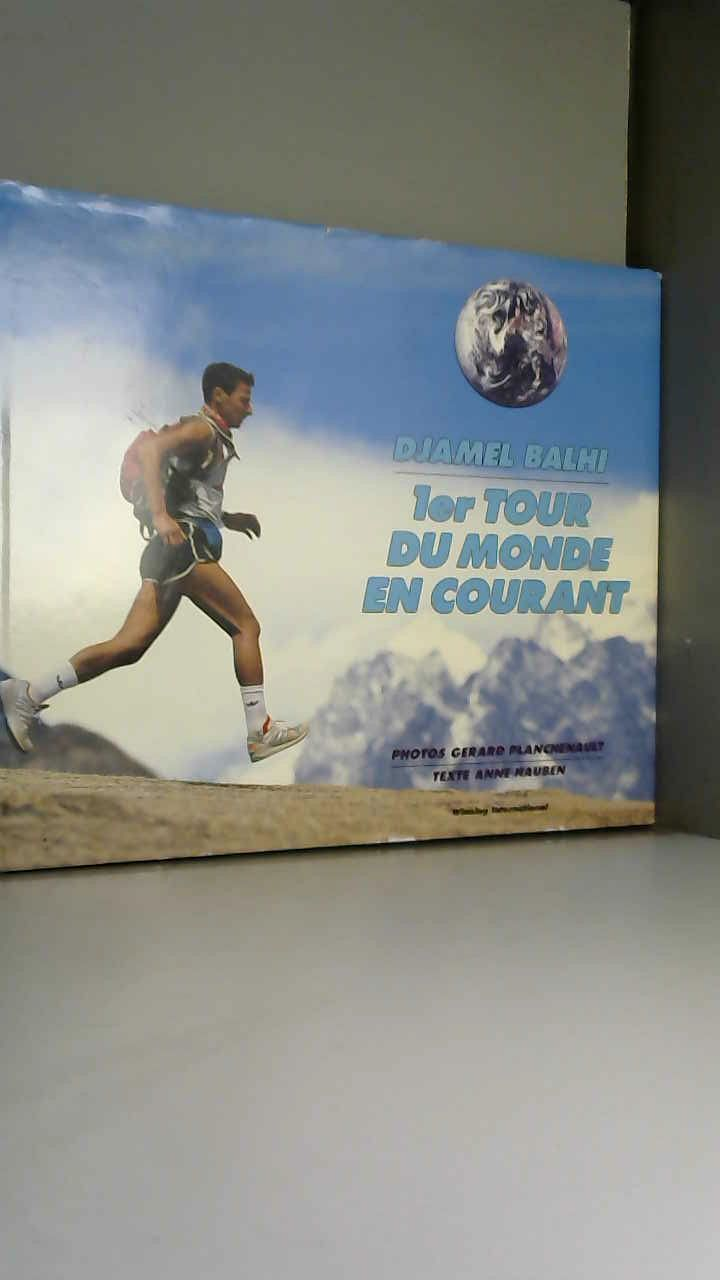book: (0, 260, 720, 884)
